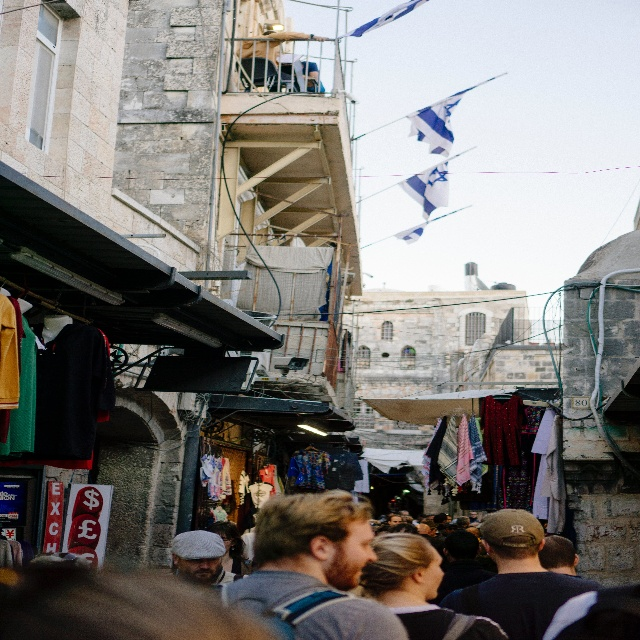Gafas: (222, 537, 231, 543)
